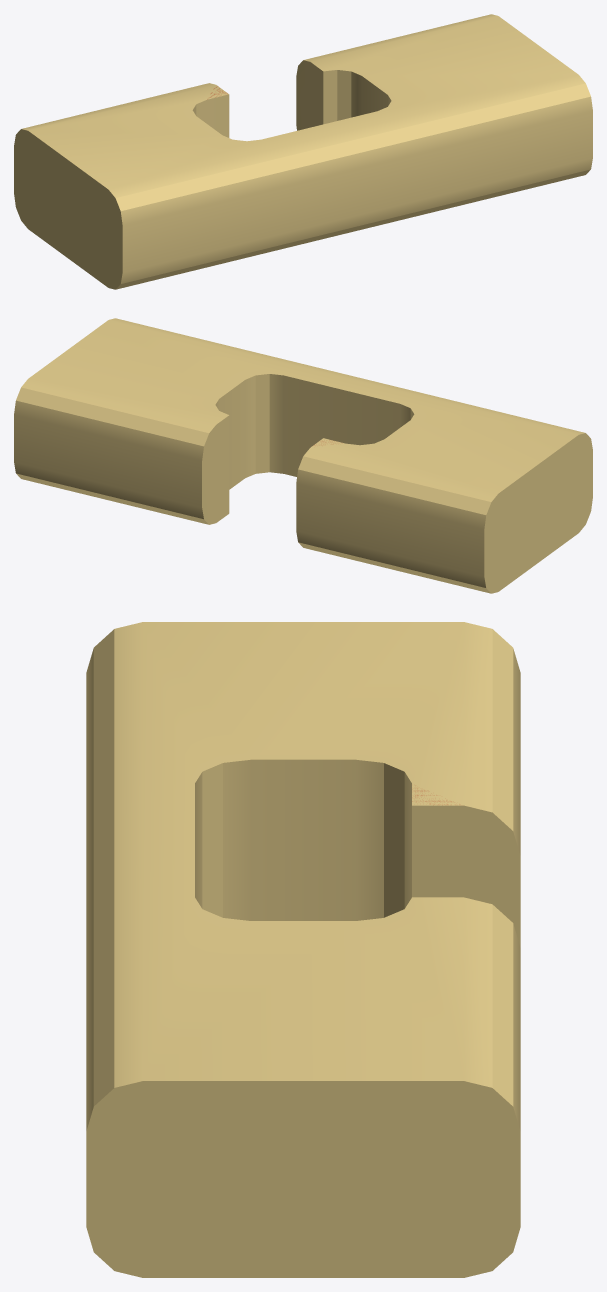
Rendered from LuBanShuo02.fbx.
3 views of the same model, one above another, from view 1: azimuth 30°, elevation 25°; view 2: azimuth 150°, elevation 25°; view 3: azimuth 270°, elevation 25° (orthographic). The views are drawn at different scales.
Parts seen in each view (by area): view 1: LuBanShuo002; view 2: LuBanShuo002; view 3: LuBanShuo002.
Boxes of the visible parts, x1,y1,x2,y2 form: LuBanShuo002: [14, 14, 592, 289]; LuBanShuo002: [14, 318, 592, 593]; LuBanShuo002: [86, 622, 520, 1277].
Bounding box in the file's own units: 20 × 4 × 8.
